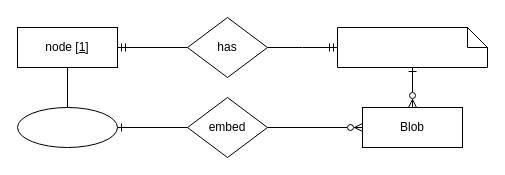
The diagram is 505 pixels wide and 175 high, and some of its shapes have lost their labels. Here are the shapes that lost their labels. From the top down, the box of each, then its label:
(336, 26, 488, 68): /assets/6/b/6b86b2...
(16, 106, 118, 148): content
